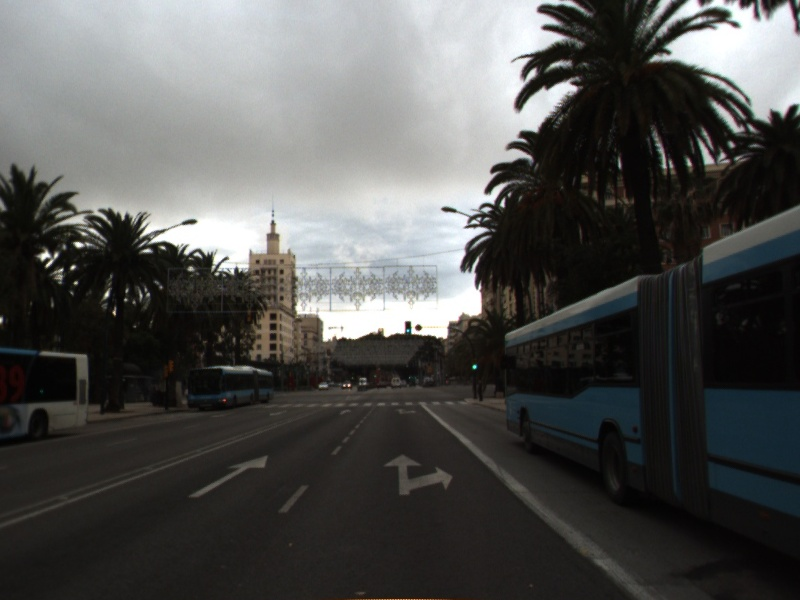STRAIGHT: (186, 453, 271, 500), (337, 407, 353, 416)
STRAIGHT_RIGHT: (381, 452, 455, 497), (392, 406, 419, 416)
